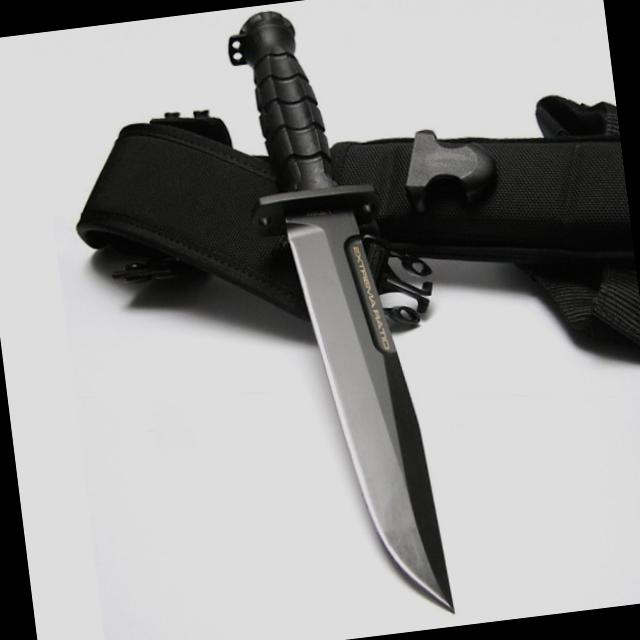knife: (278, 188, 462, 636)
